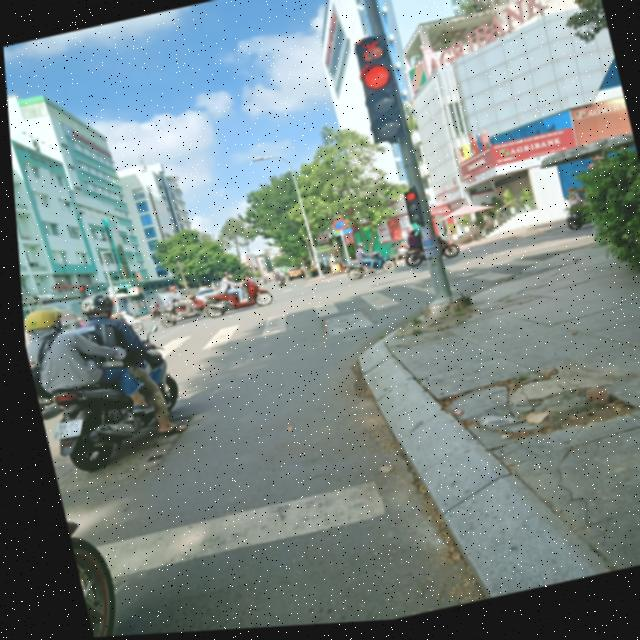Red: (354, 65, 409, 148), (396, 192, 427, 231)
